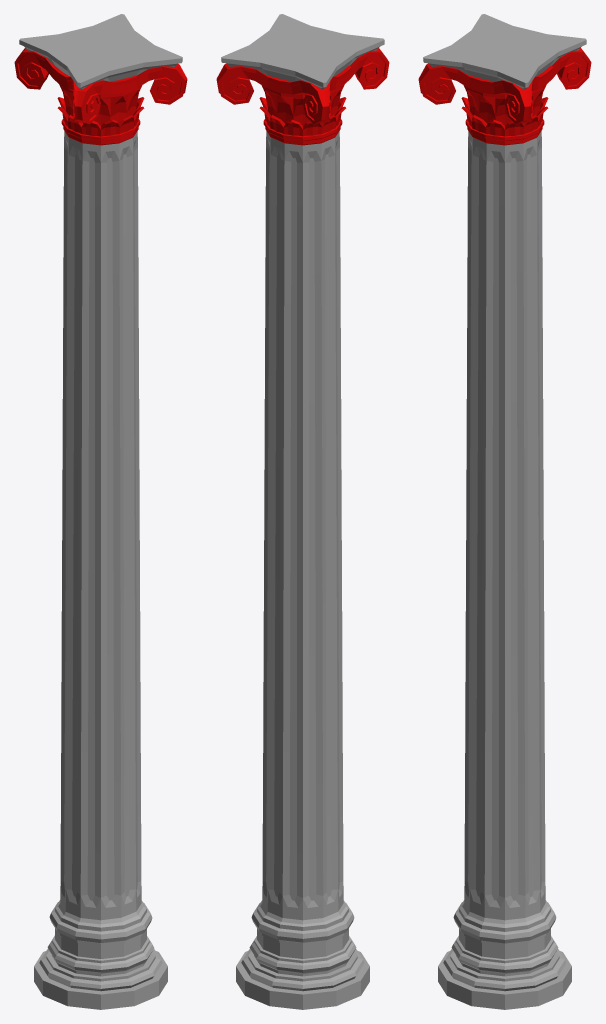
Rendered from SM_Bld_Pillar_Large_04.fbx.
3 views of the same model, side by side, from view 1: azimuth 30°, elevation 25°; view 2: azimuth 150°, elevation 25°; view 3: azimuth 330°, elevation 25° (orthographic).
Parts seen in each view (by area): view 1: SM_Bld_Pillar_Large_04; view 2: SM_Bld_Pillar_Large_04; view 3: SM_Bld_Pillar_Large_04.
Boxes of the visible parts, <box> form: SM_Bld_Pillar_Large_04: <box>14,14,187,1009</box>; SM_Bld_Pillar_Large_04: <box>216,14,389,1009</box>; SM_Bld_Pillar_Large_04: <box>418,14,591,1009</box>.
Bounding box in the file's own units: 78.08 × 600 × 78.08.
